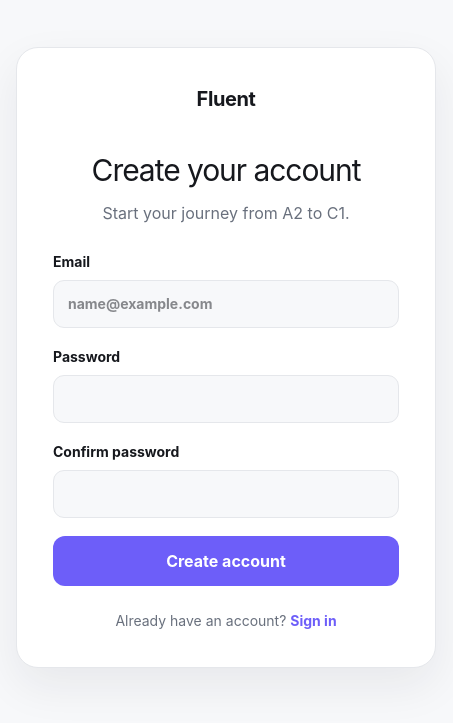
Test case: AuthPage › does not submit signup when passwords differ
Type "learner@example.com" into the field labelled "Email".
click(226, 304); type("learner@example.com")  # box [53,280,399,328]
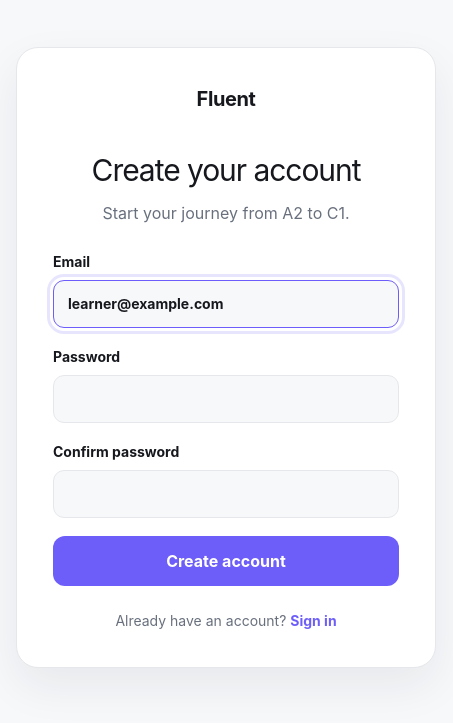
Type "secure-pass" into the password field labelled "Password".
click(226, 398); type("secure-pass")  # box [53,374,399,422]
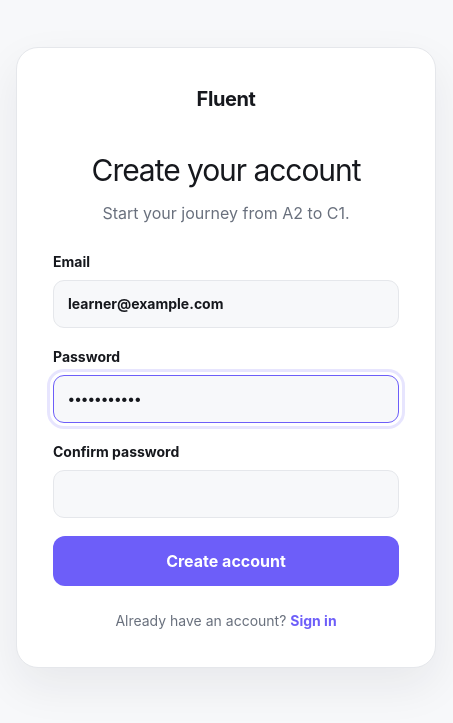
Type "different-pass" into the password field labelled "Confirm password".
click(226, 494); type("different-pass")  # box [53,470,399,518]
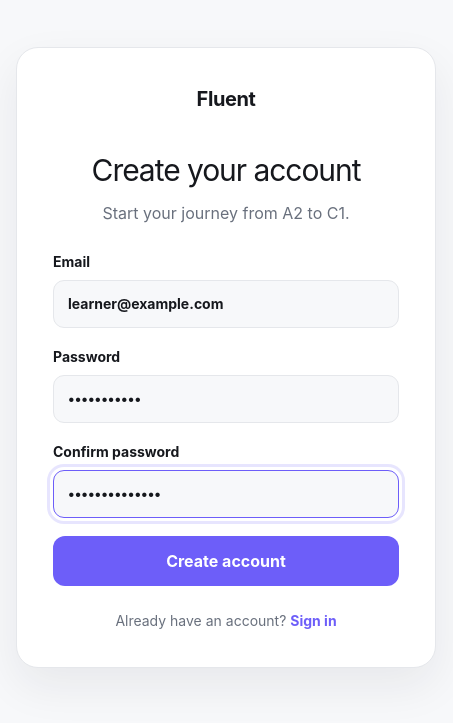
Click the button "Create account".
click(226, 560)  # box [53,536,399,586]
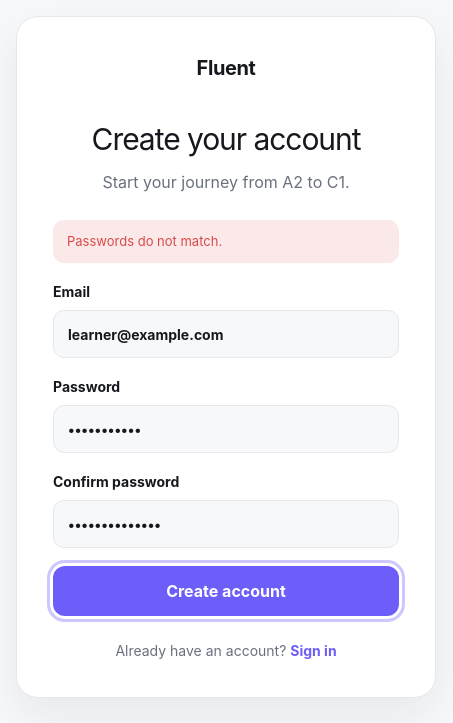
expect the message reads "Passwords do not match.": met, box [67,233,222,249]
